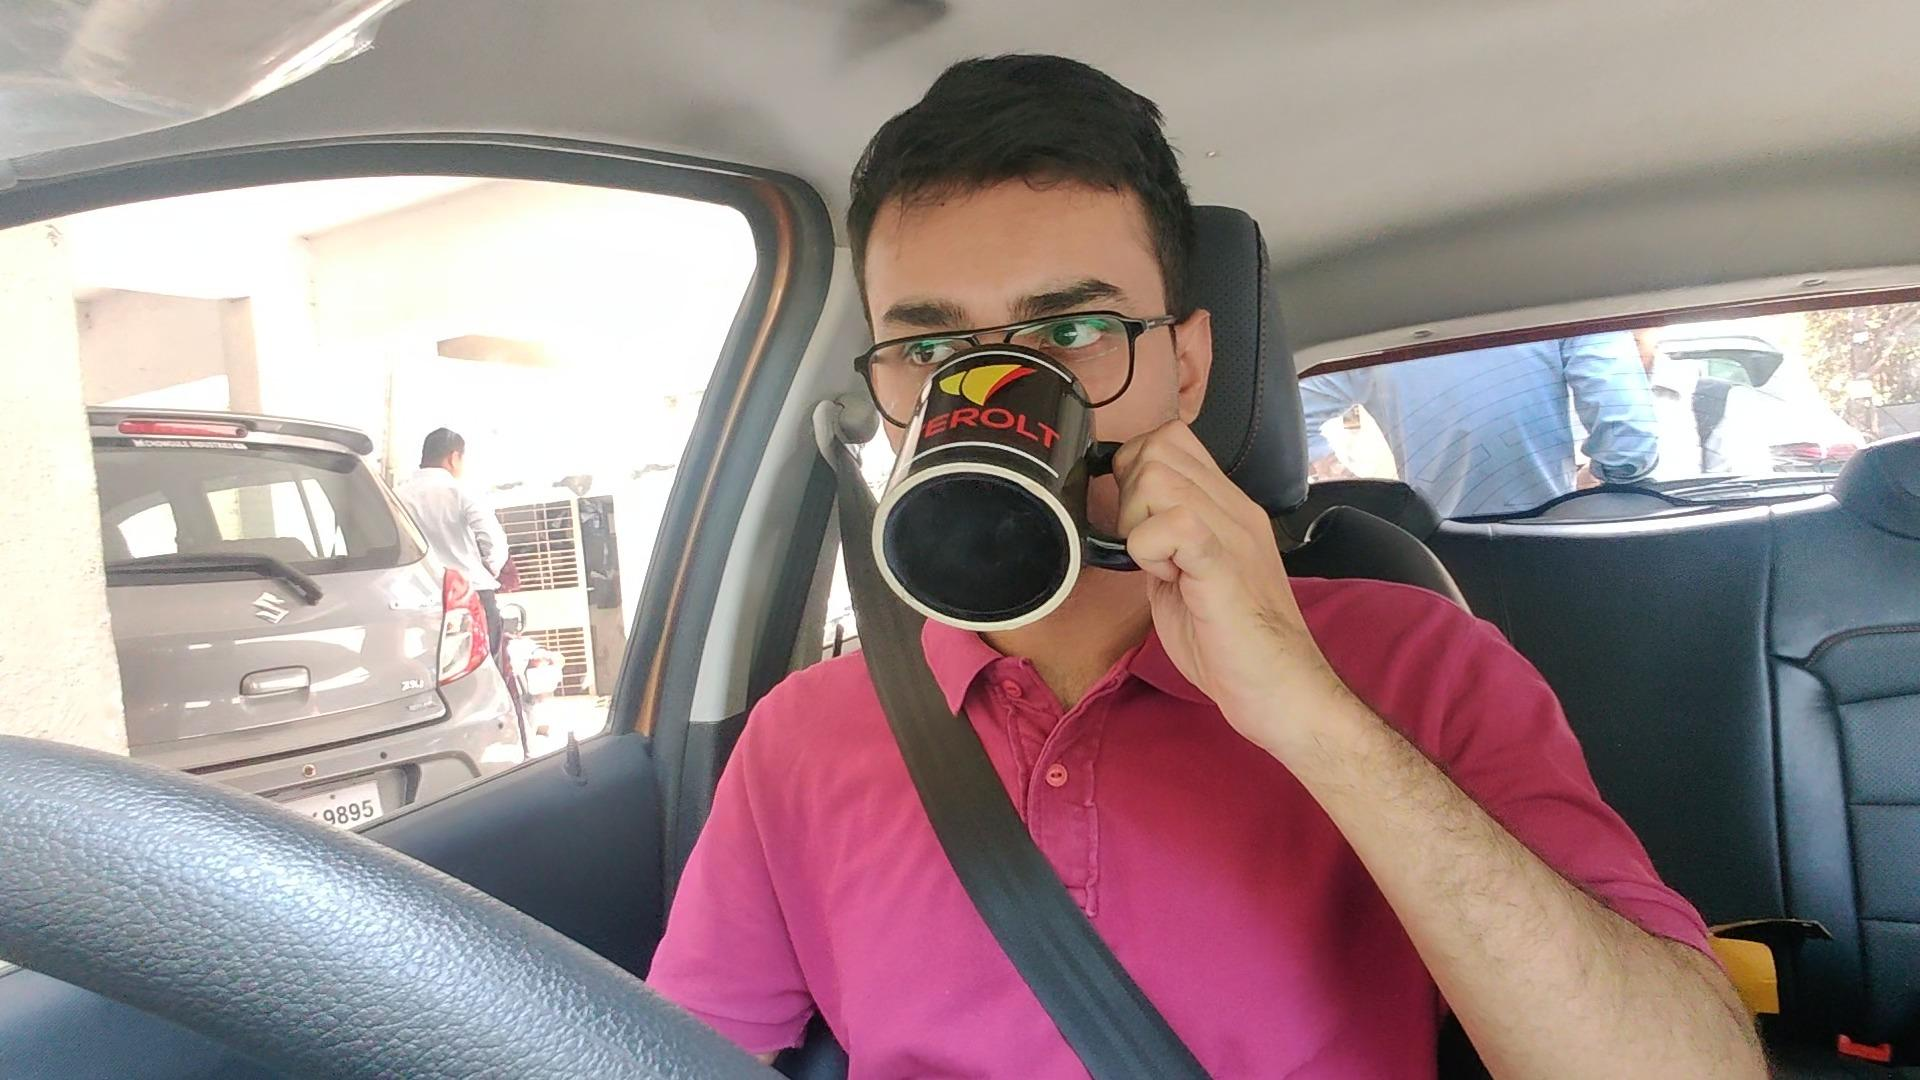Drinking: (849, 179, 1215, 641)
